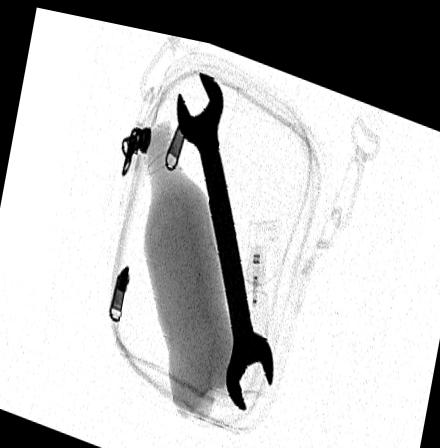Wrench: (176, 64, 273, 400)
